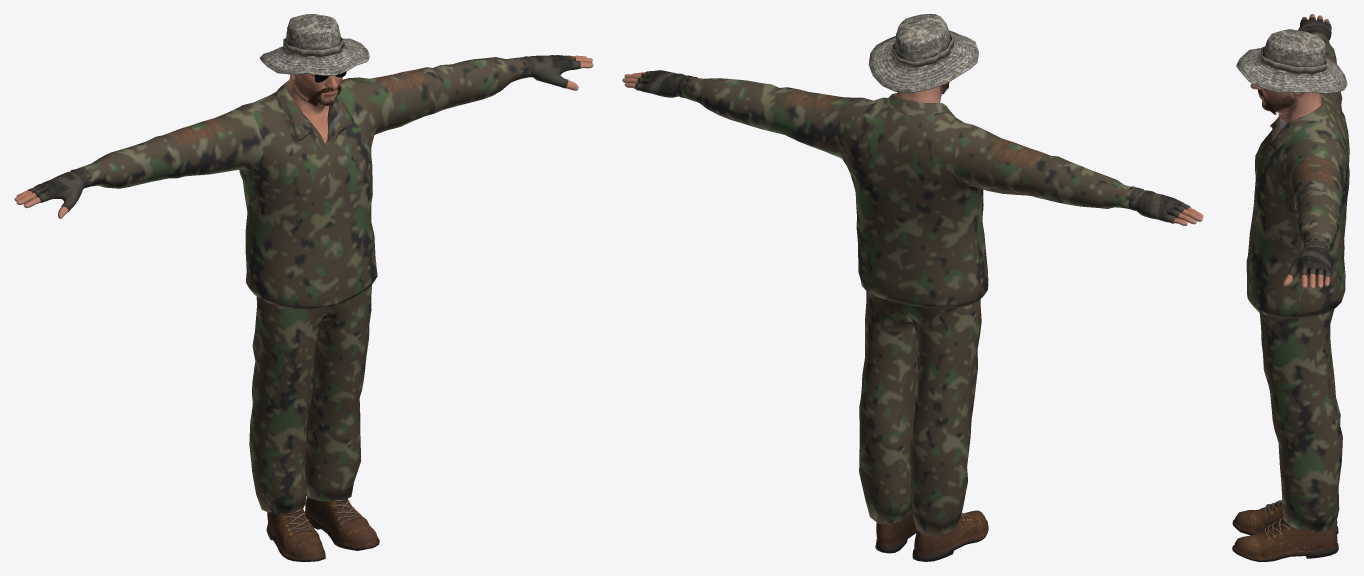
Rendered from captain_price.glb.
3 renders of one model, left to right at view 1: azimuth 30°, elevation 25°; view 2: azimuth 150°, elevation 25°; view 3: azimuth 270°, elevation 25°, orthographic. The views are drawn at different scales.
Visible parts, largest first — view 1: Object_3, Object_2; view 2: Object_3, Object_2; view 3: Object_3, Object_2.
Part boxes in pixels (left/top/right/bottom): Object_3: left=27, top=14, right=580, bottom=561; Object_2: left=14, top=55, right=593, bottom=513; Object_3: left=635, top=14, right=1190, bottom=561; Object_2: left=622, top=72, right=1203, bottom=535; Object_3: left=1232, top=17, right=1349, bottom=561; Object_2: left=1250, top=14, right=1342, bottom=531.
Size of the model in its own units: 212 by 183 by 38.27.
1 material, 1 textured.
